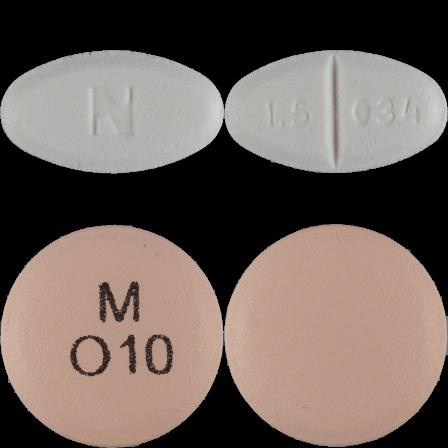54868-5712: (0, 0, 224, 224)
